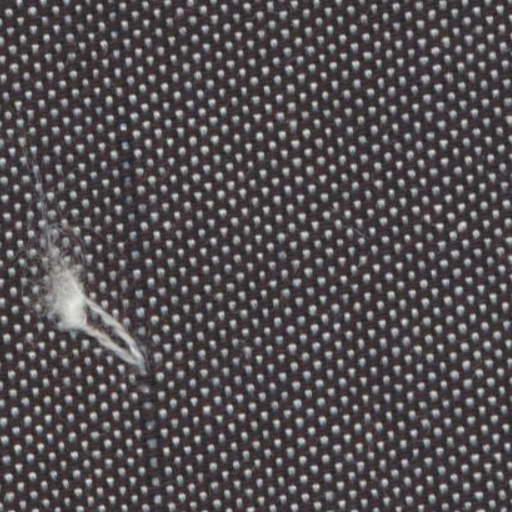DuanSha: (20, 176, 156, 382)
